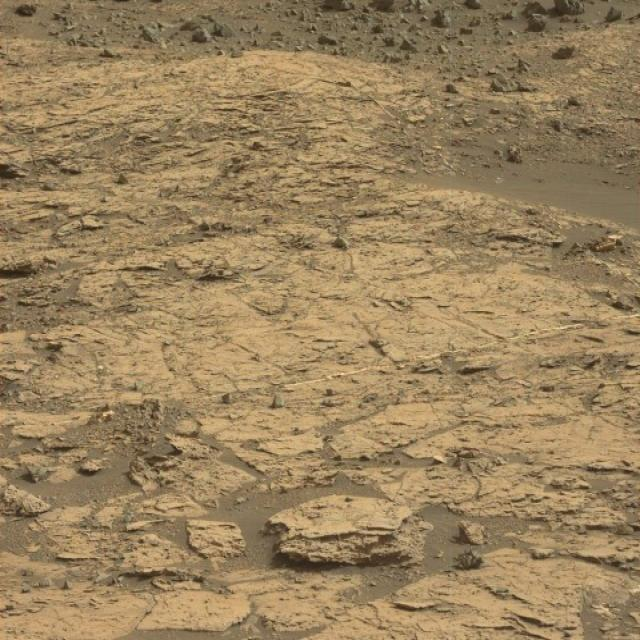rock: (264, 495, 428, 575)
